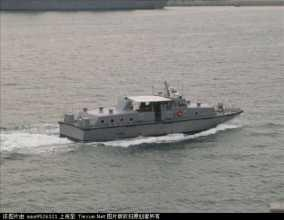otherboat: (54, 76, 249, 139)
